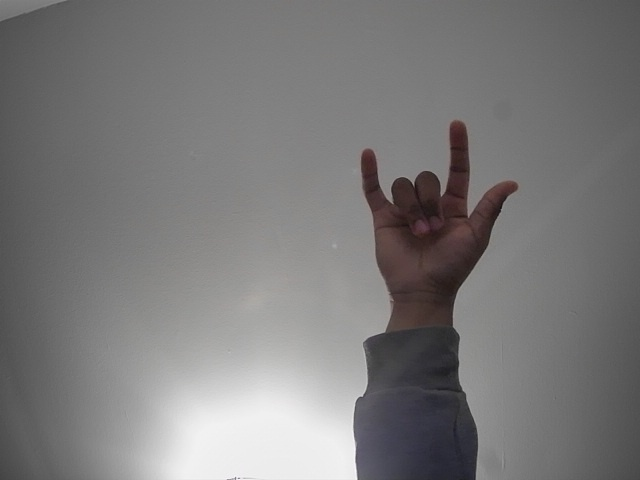ILoveYou: (352, 108, 528, 322)
